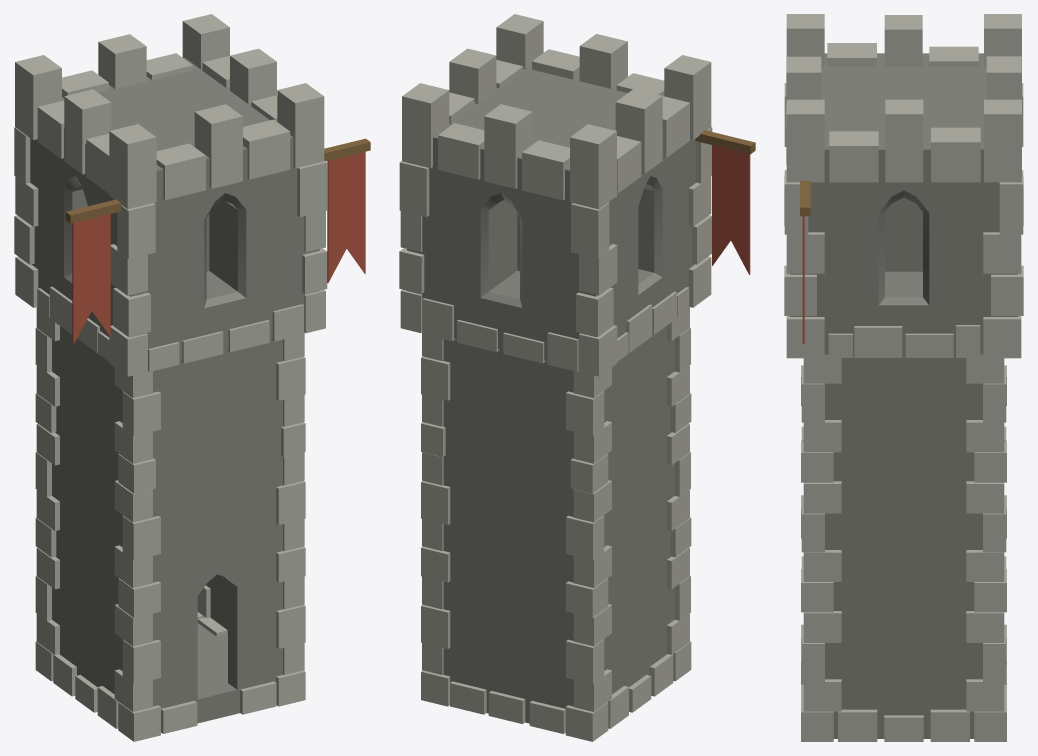
Rendered from ArcherTower.fbx.
The picture shows the model from 3 angles, left to right: view 1: azimuth 30°, elevation 25°; view 2: azimuth 150°, elevation 25°; view 3: azimuth 270°, elevation 25°; orthographic projection. The views are drawn at different scales.
Parts seen in each view (by area): view 1: WatchTower_SecondAge_Level2; view 2: WatchTower_SecondAge_Level2; view 3: WatchTower_SecondAge_Level2.
Boxes of the visible parts, bbox=[...] form: WatchTower_SecondAge_Level2: bbox=[14, 14, 370, 741]; WatchTower_SecondAge_Level2: bbox=[399, 14, 755, 741]; WatchTower_SecondAge_Level2: bbox=[784, 14, 1023, 741].
Size of the model in its own units: 69.72 by 134 by 46.09.
